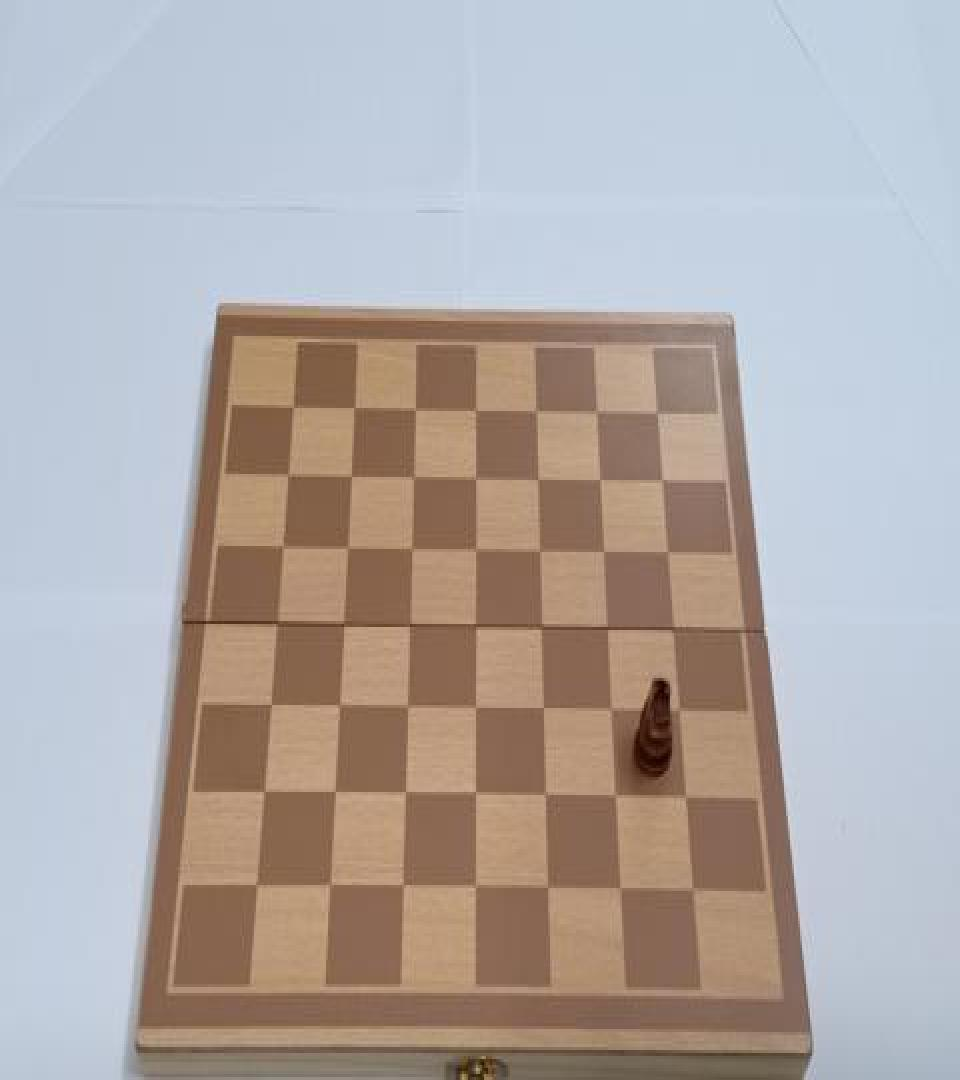xcorner: (280, 392, 300, 422), (275, 460, 295, 490), (269, 534, 289, 564), (257, 693, 277, 723), (250, 782, 270, 812), (243, 874, 263, 904), (342, 393, 362, 423), (338, 462, 358, 492), (334, 534, 354, 564), (330, 612, 350, 642), (326, 694, 346, 724), (322, 782, 342, 812), (317, 876, 337, 906), (403, 393, 423, 423), (401, 462, 421, 492), (397, 612, 417, 642), (395, 694, 415, 724), (393, 783, 413, 813), (391, 876, 411, 906), (464, 394, 484, 424), (464, 464, 484, 494), (464, 614, 484, 644), (464, 696, 484, 726), (526, 394, 546, 424), (528, 464, 548, 494), (529, 537, 549, 567), (531, 615, 551, 645), (538, 879, 558, 909), (587, 396, 607, 426), (591, 465, 611, 495), (595, 538, 615, 568), (598, 615, 618, 645), (607, 786, 627, 816), (612, 879, 632, 909), (649, 396, 669, 426), (654, 465, 674, 495), (660, 538, 680, 568), (672, 699, 692, 729), (679, 786, 699, 816), (263, 611, 283, 640), (399, 536, 419, 565), (464, 536, 484, 565), (464, 785, 484, 814), (464, 878, 484, 907), (534, 698, 554, 727), (536, 785, 556, 814), (603, 698, 623, 727), (666, 617, 686, 646), (686, 881, 706, 910)
